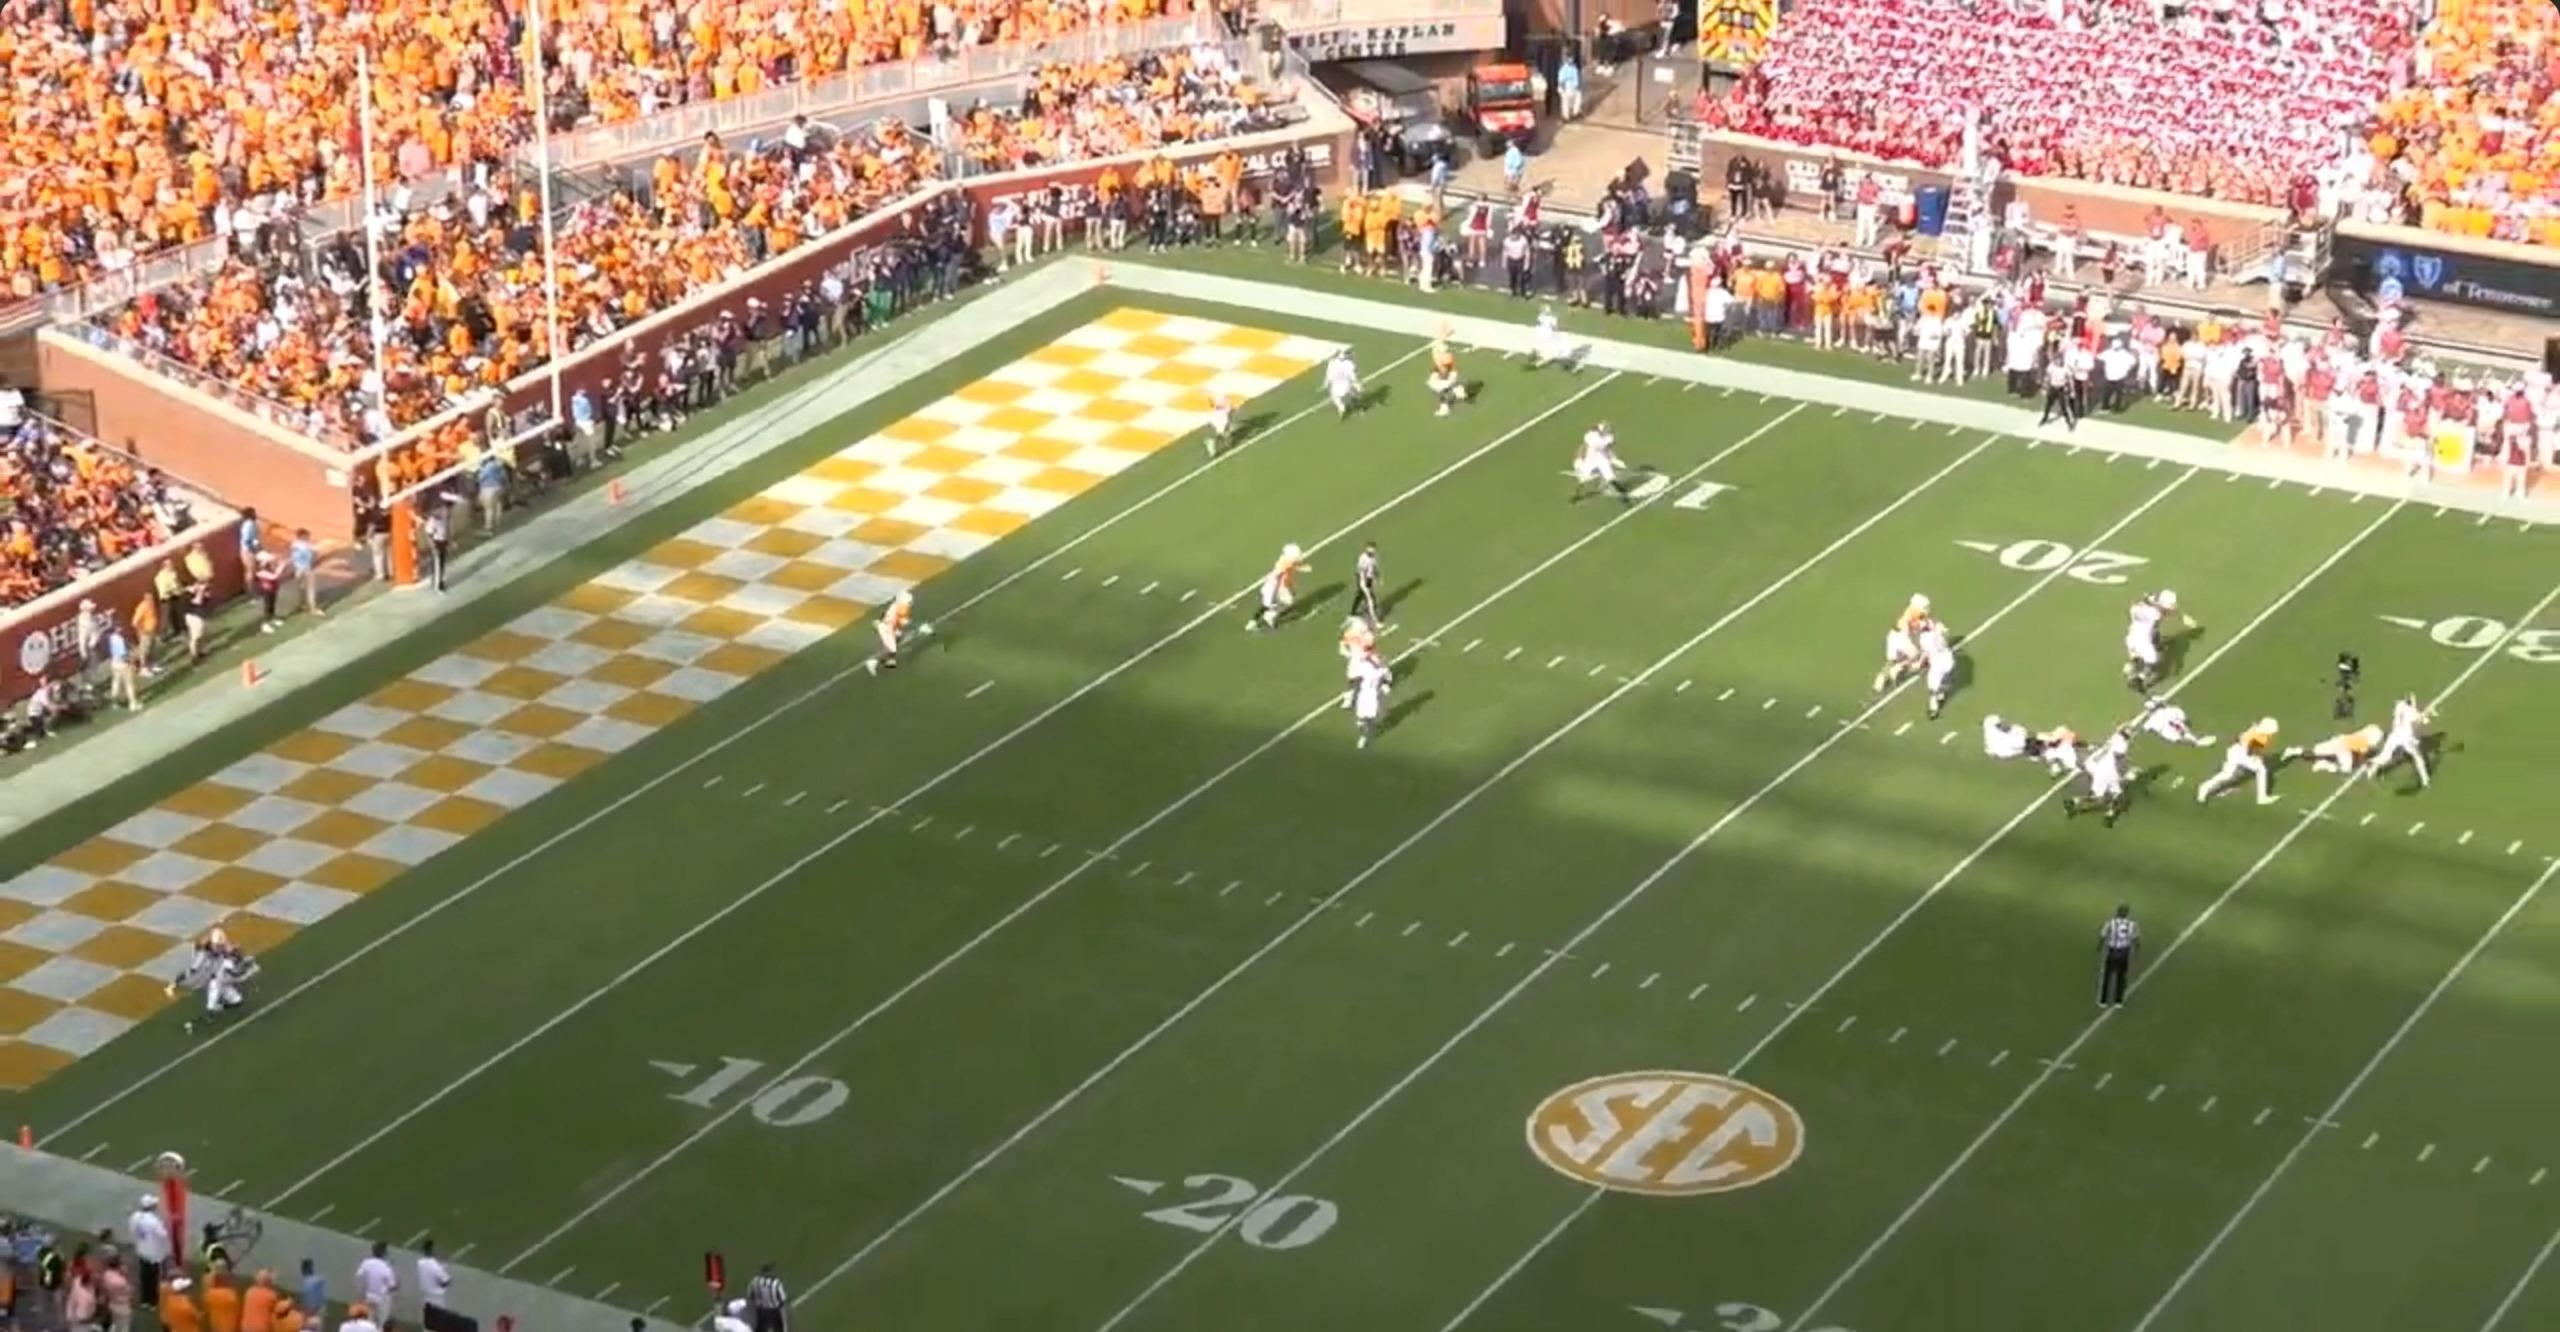player: (2200, 715, 2295, 810), (2363, 692, 2442, 794), (184, 934, 267, 1031), (2064, 731, 2139, 828), (2283, 719, 2393, 778), (163, 926, 248, 1002), (865, 584, 929, 678), (1258, 540, 1320, 636), (1561, 421, 1629, 508), (1886, 595, 1941, 701), (2122, 590, 2180, 690), (1343, 648, 1394, 756), (1341, 615, 1395, 716), (1973, 713, 2053, 771), (1911, 616, 1956, 718), (2142, 698, 2216, 755), (1424, 337, 1474, 420), (2032, 720, 2100, 781), (1527, 307, 1575, 375), (2142, 583, 2201, 637), (1324, 348, 1365, 424), (1201, 383, 1237, 463)
ref: (2094, 895, 2148, 1009), (2037, 343, 2089, 434), (415, 495, 459, 598), (741, 1256, 796, 1332), (1351, 541, 1390, 635)
